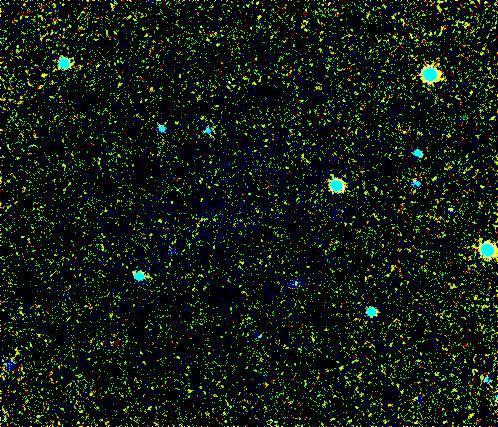star: (308, 66, 338, 96)
